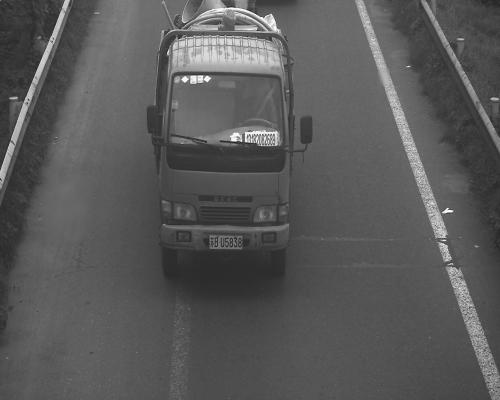Carplate: (205, 231, 247, 256)
